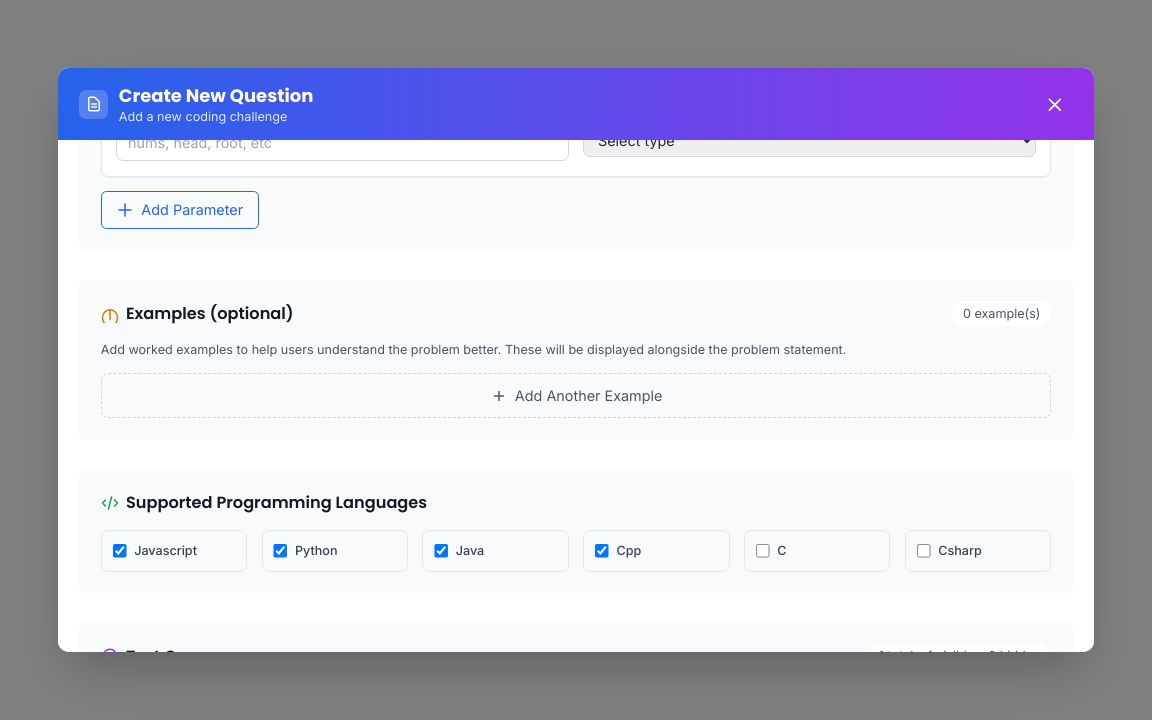
Test: QuestionForm Component › Examples Section (NEW) › allows adding examples
The image size is (1152, 720).
(page scrolled)
Click the button "Add Another Example": (576, 396) [101,373,1051,418]
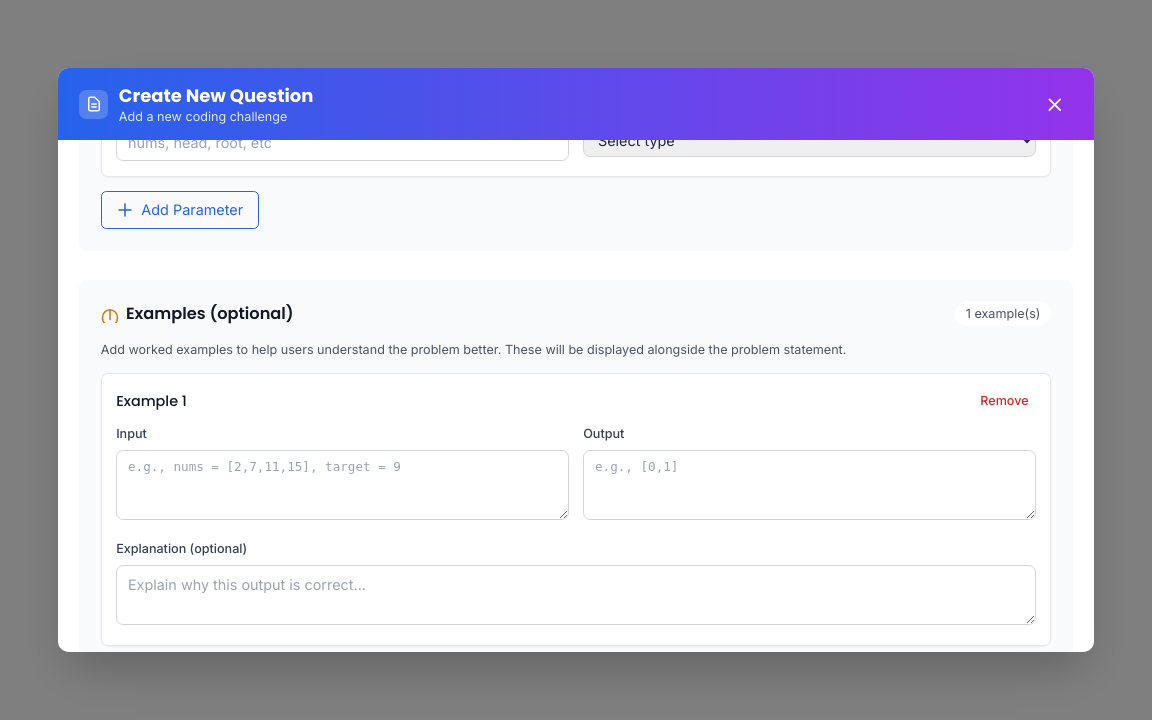
Result: the heading "Example 1" is shown at [116,392,187,410]
Result: the text box with placeholder "e.g., nums = [2,7,11,15], target = 9" is shown at [116,450,569,520]
Result: the text box with placeholder "e.g., [0,1]" is shown at [583,450,1036,520]
